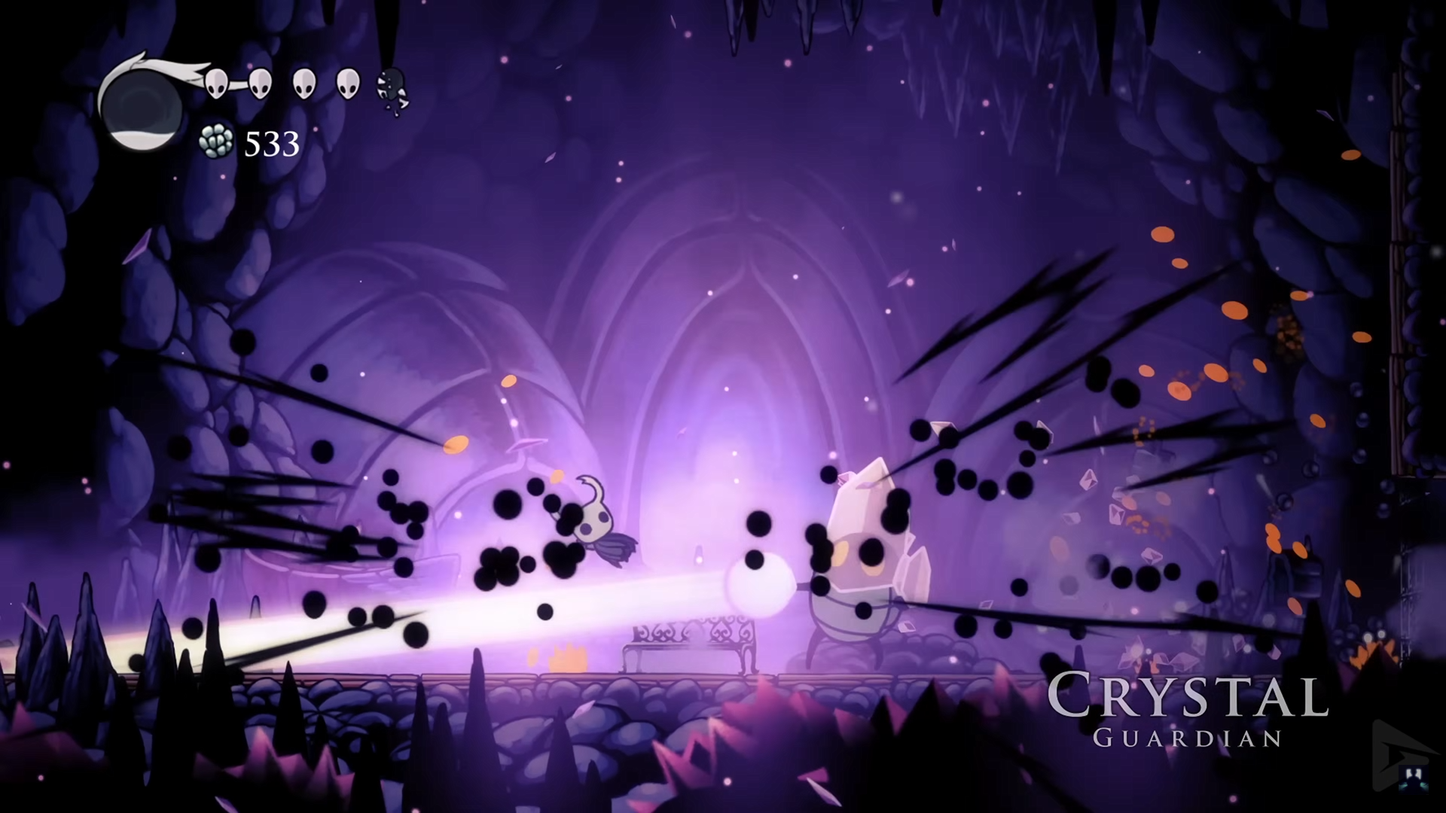HK: (536, 472, 640, 571)
